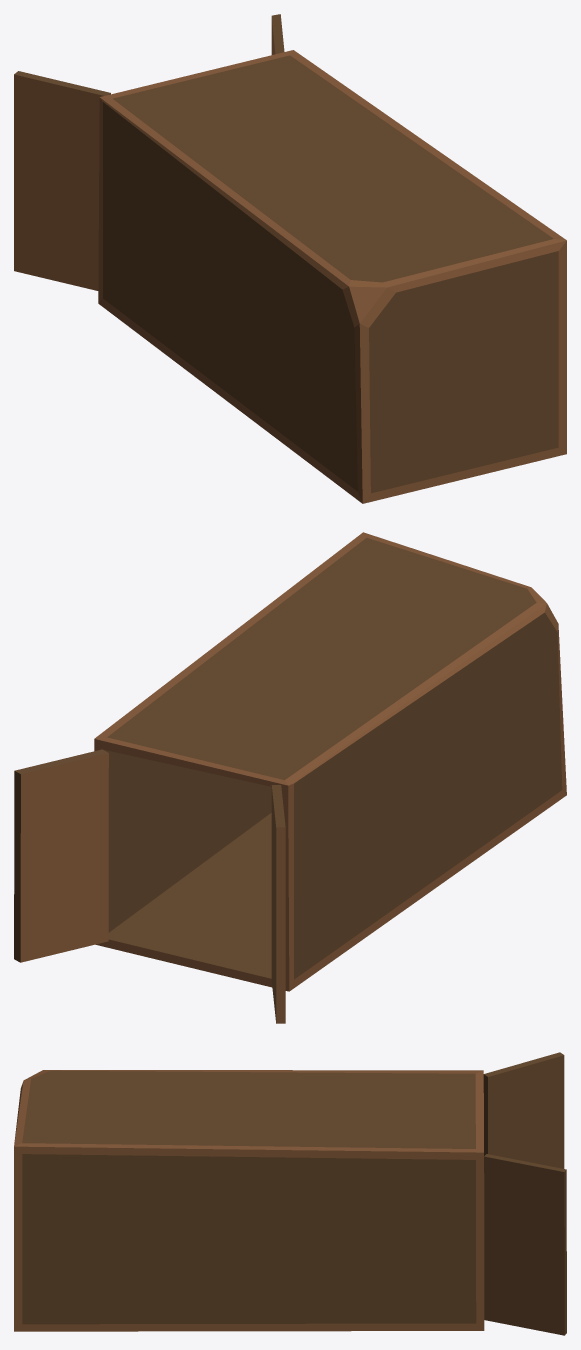
The model's file is apocalypse-cargo-apocalypse-d.glb.
3 views of the same model, one above another, from view 1: azimuth 30°, elevation 25°; view 2: azimuth 150°, elevation 25°; view 3: azimuth 270°, elevation 25° (orthographic). The views are drawn at different scales.
Parts seen in each view (by area): view 1: cargo-apocalypse-d; view 2: cargo-apocalypse-d; view 3: cargo-apocalypse-d.
Part boxes in pixels (x1,y1,x2,y2): cargo-apocalypse-d: (14,14,566,503); cargo-apocalypse-d: (14,532,566,1023); cargo-apocalypse-d: (14,1052,566,1335).
Bounding box in the file's own units: 3.3 × 2.5 × 6.77.
